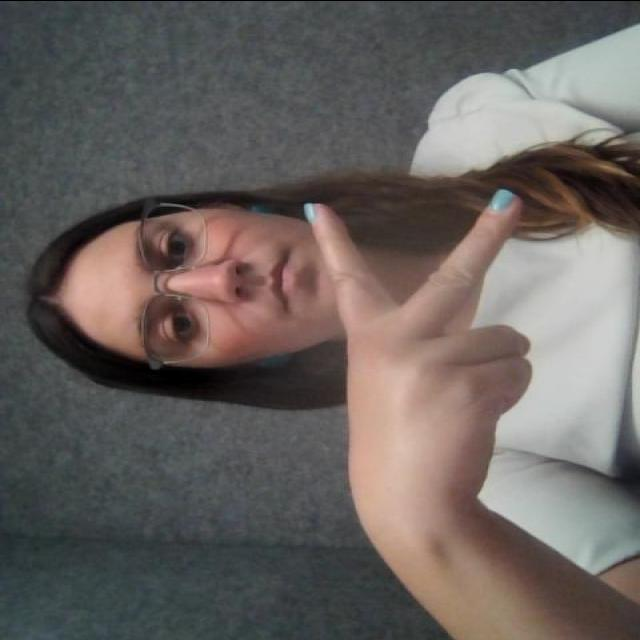Scissors: (297, 172, 619, 531)
